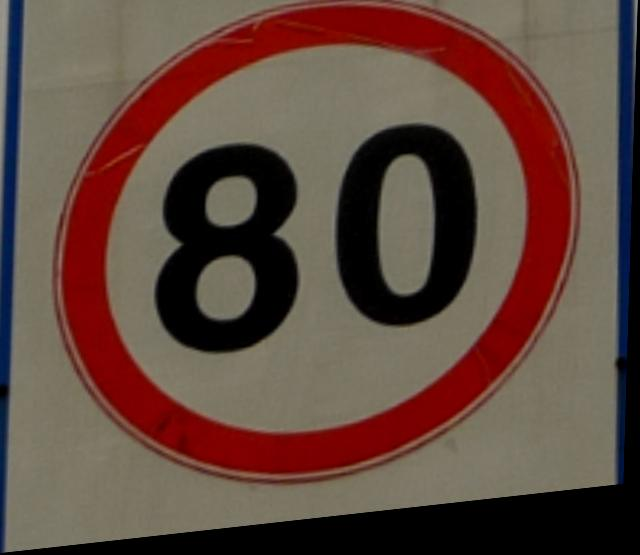limit80: (37, 0, 593, 520)
